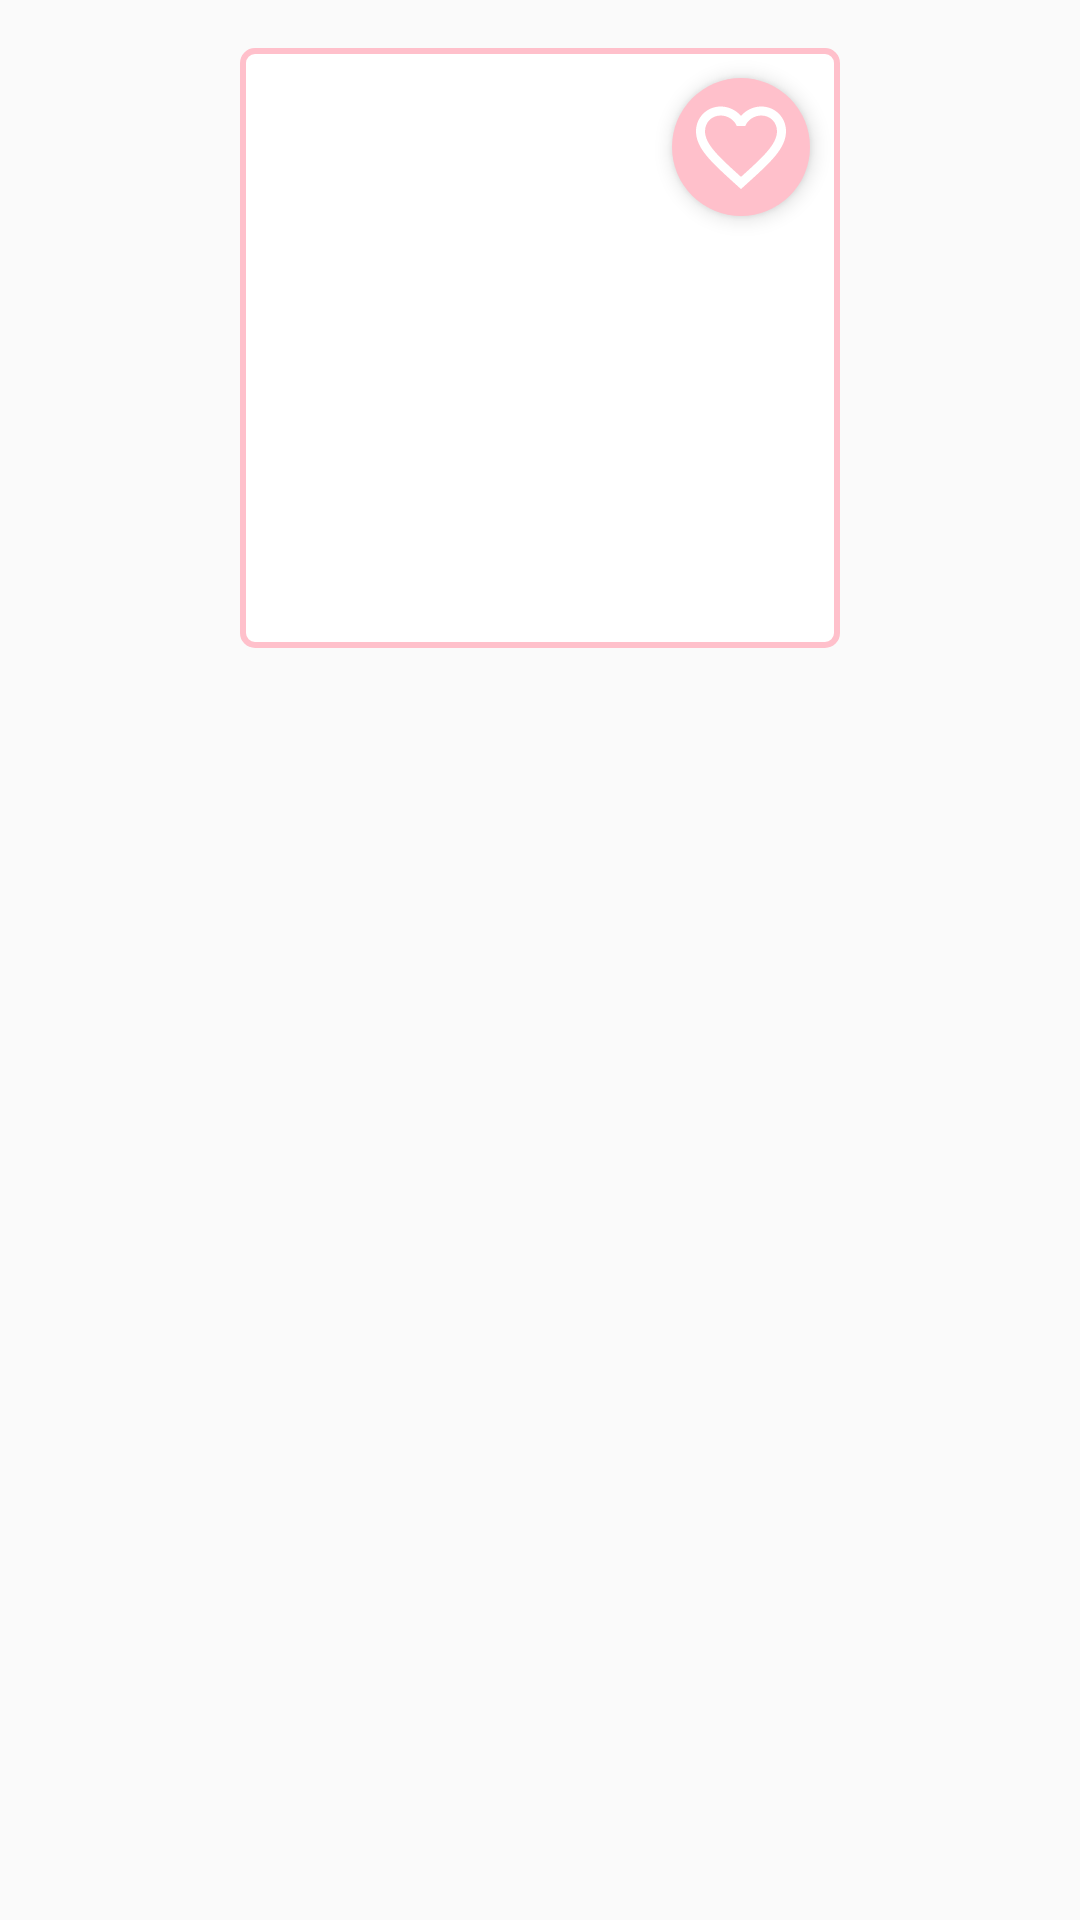

Where to tap for icons on this 1080 × 1920 app screen, as (x=x, y=y):
favorite empty: (x=741, y=147)
